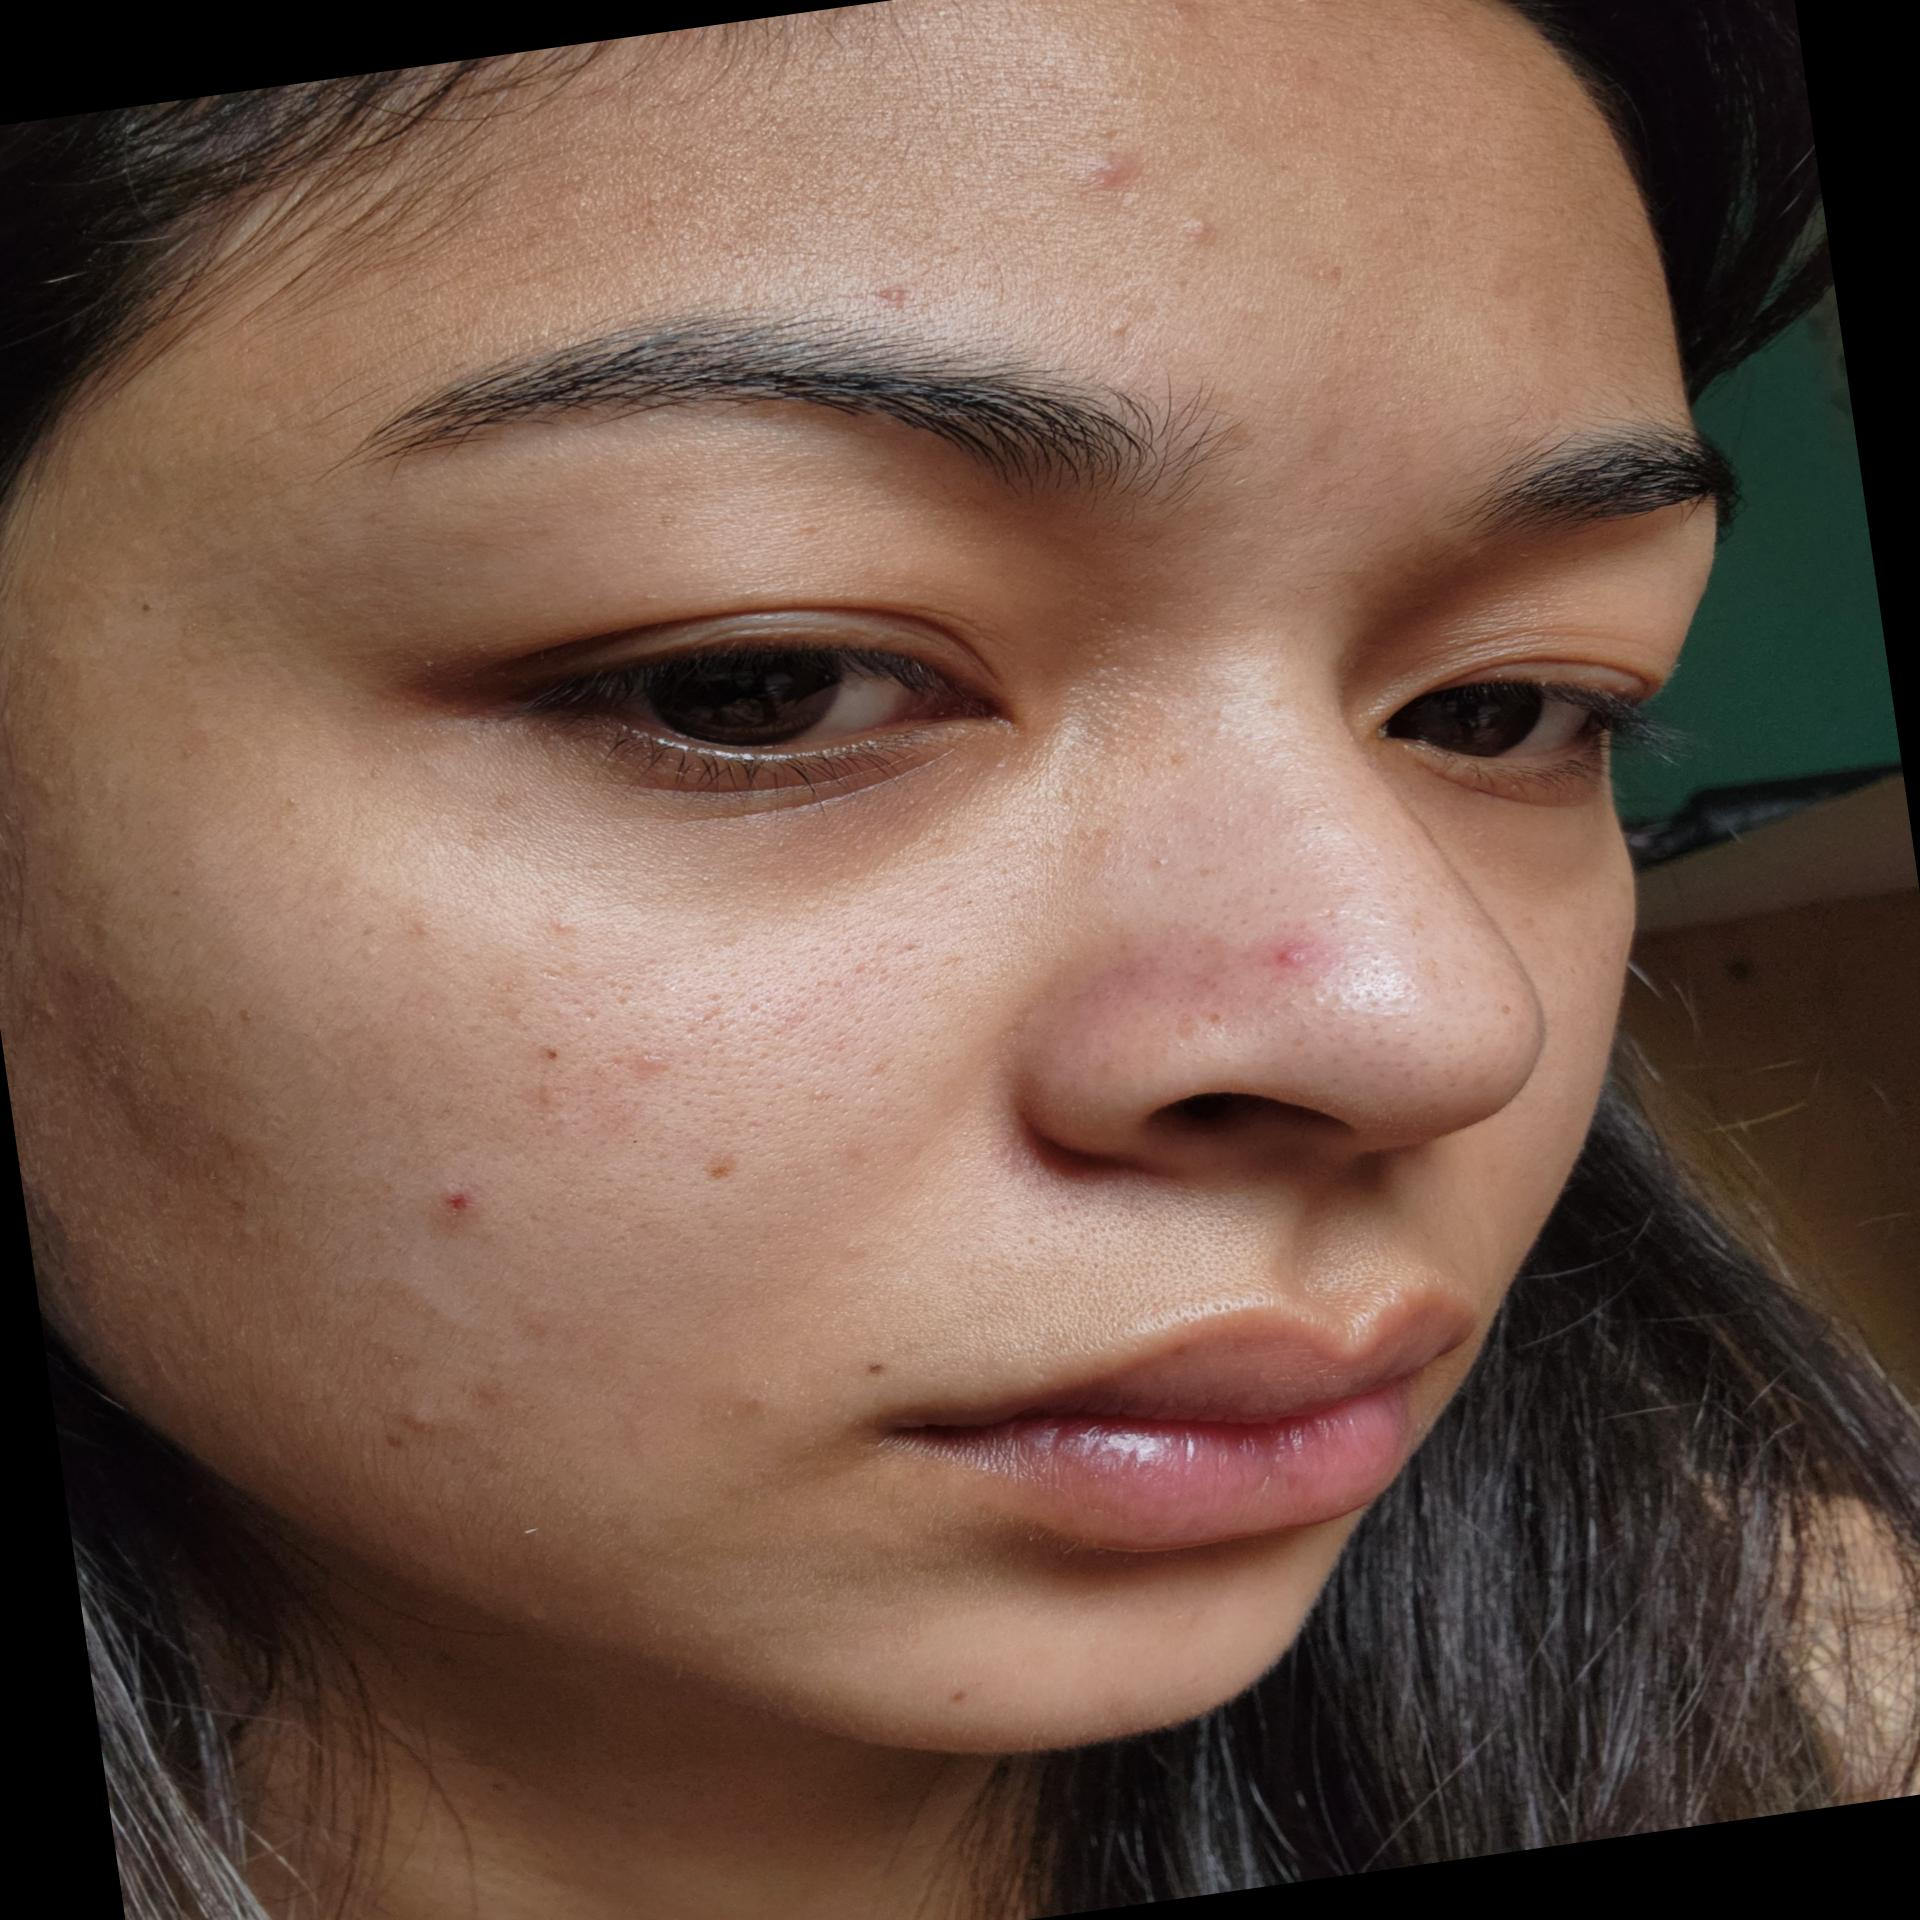Acne: (1055, 127, 1155, 202), (364, 1393, 452, 1458), (1229, 937, 1322, 997), (397, 1166, 476, 1234), (1291, 250, 1373, 308), (1092, 306, 1171, 350), (1162, 209, 1234, 257), (617, 1046, 682, 1094), (862, 283, 925, 325), (526, 1037, 570, 1073), (935, 1679, 976, 1709)
Blackhead: (1306, 902, 1498, 1124)
Dark Circles: (519, 754, 1020, 941), (1435, 772, 1626, 877)
Englarged Pores: (540, 909, 1015, 1254)
